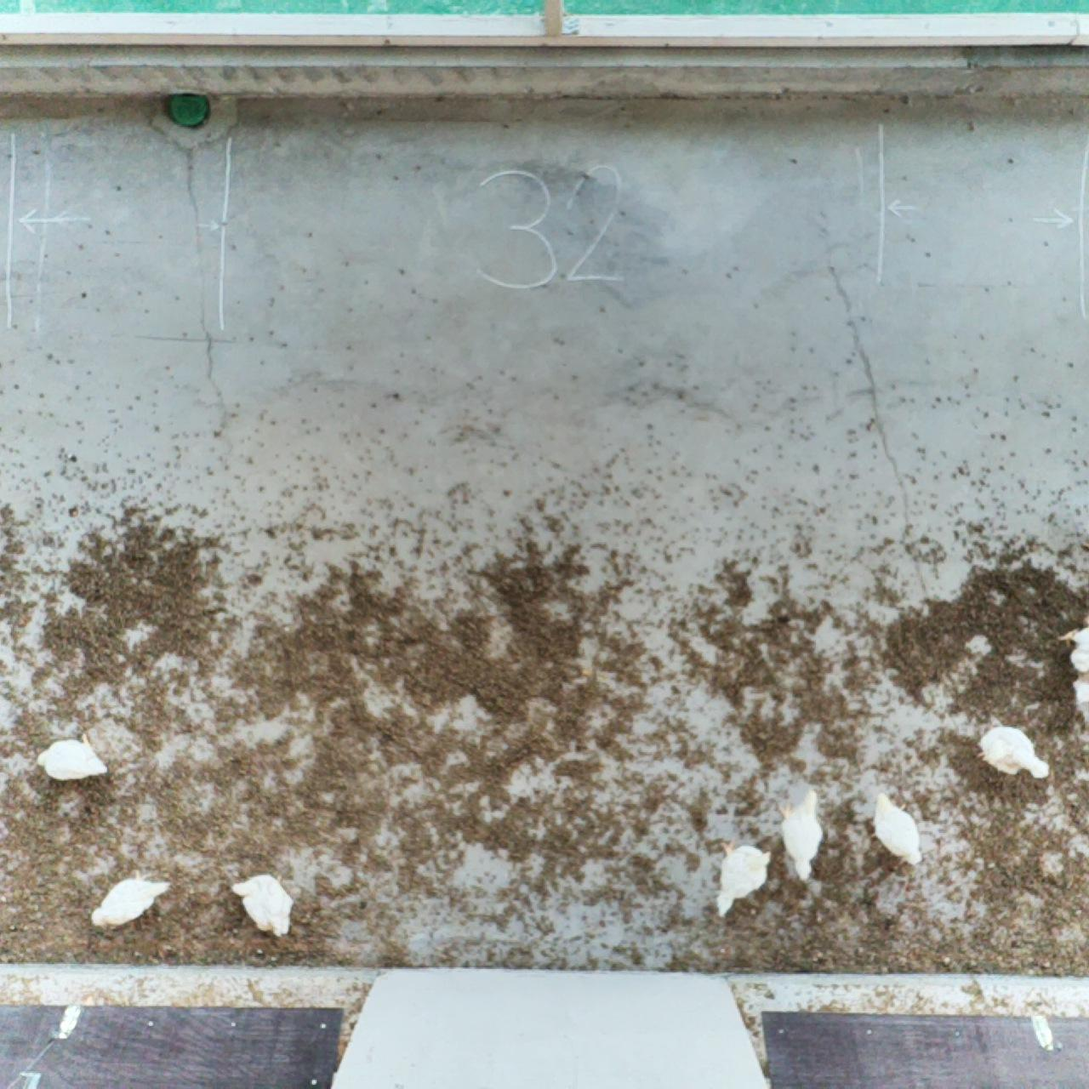chicken: (88, 864, 179, 934), (970, 717, 1056, 789), (710, 833, 775, 925), (775, 785, 832, 884), (222, 868, 299, 941), (864, 787, 928, 871), (34, 726, 112, 790), (1053, 613, 1089, 673)
